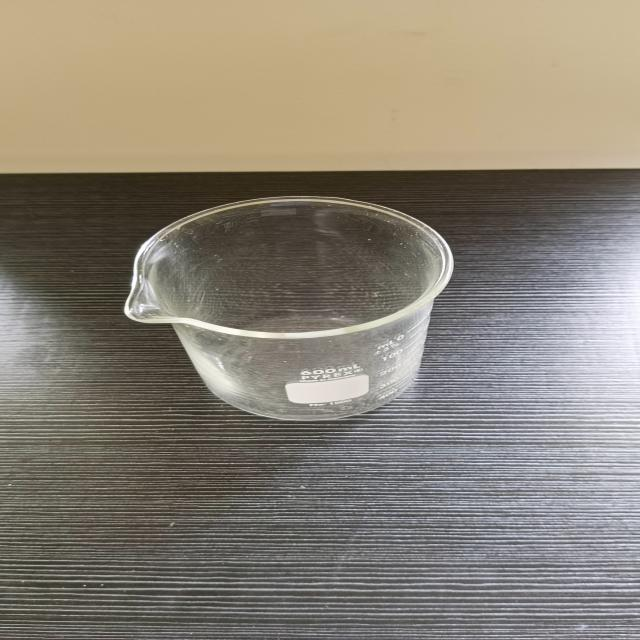beaker: (119, 192, 458, 425)
